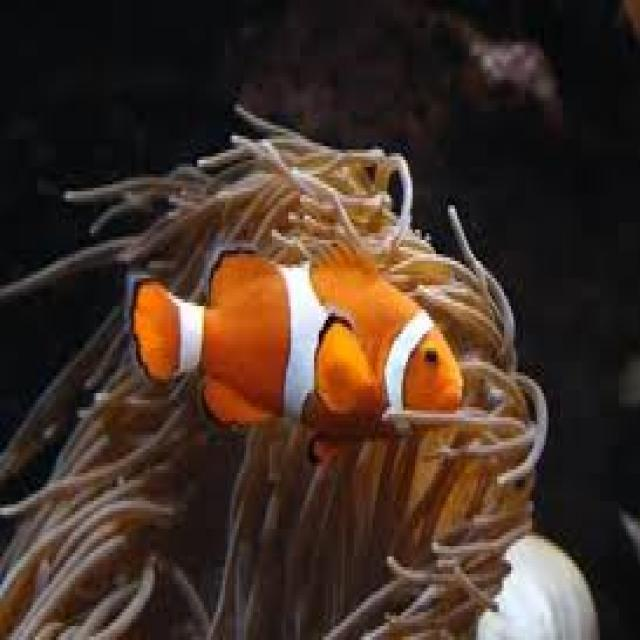ClownFish: (132, 245, 462, 429)
